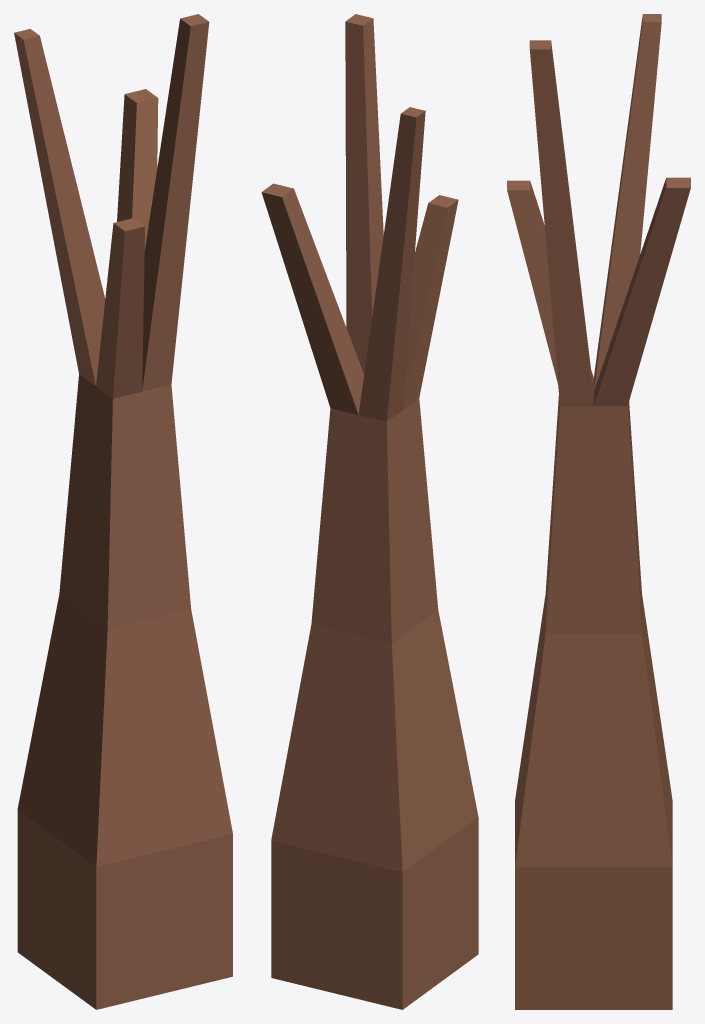
File: TreeFanPalmTrunkA.glb
3 views of the same model, side by side, from view 1: azimuth 30°, elevation 25°; view 2: azimuth 150°, elevation 25°; view 3: azimuth 270°, elevation 25° (orthographic). The views are drawn at different scales.
Visible parts, largest first — view 1: Cube; view 2: Cube; view 3: Cube.
Part boxes in pixels (x1,y1,x2,y2): Cube: (14,14,232,1009); Cube: (261,14,478,1009); Cube: (507,14,690,1009).
Bounding box in the file's own units: 0.4229 × 2.63 × 0.46.
